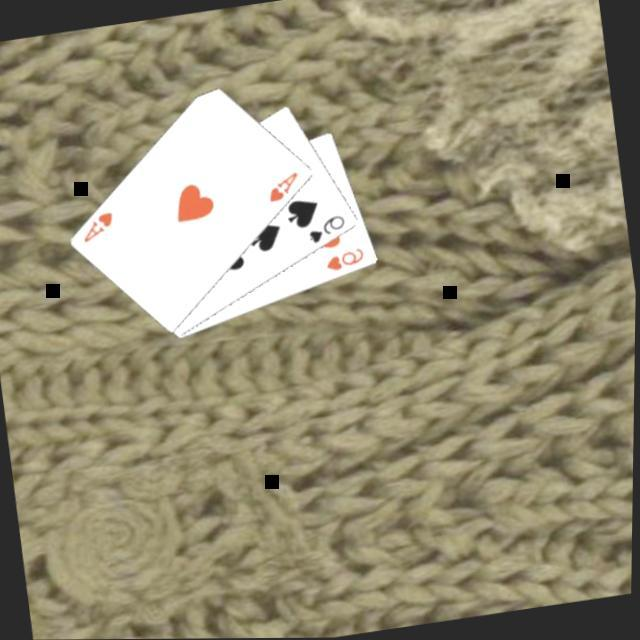6H: (323, 245, 372, 278)
9S: (305, 213, 353, 250)
AH: (264, 170, 306, 208), (80, 210, 122, 248)
